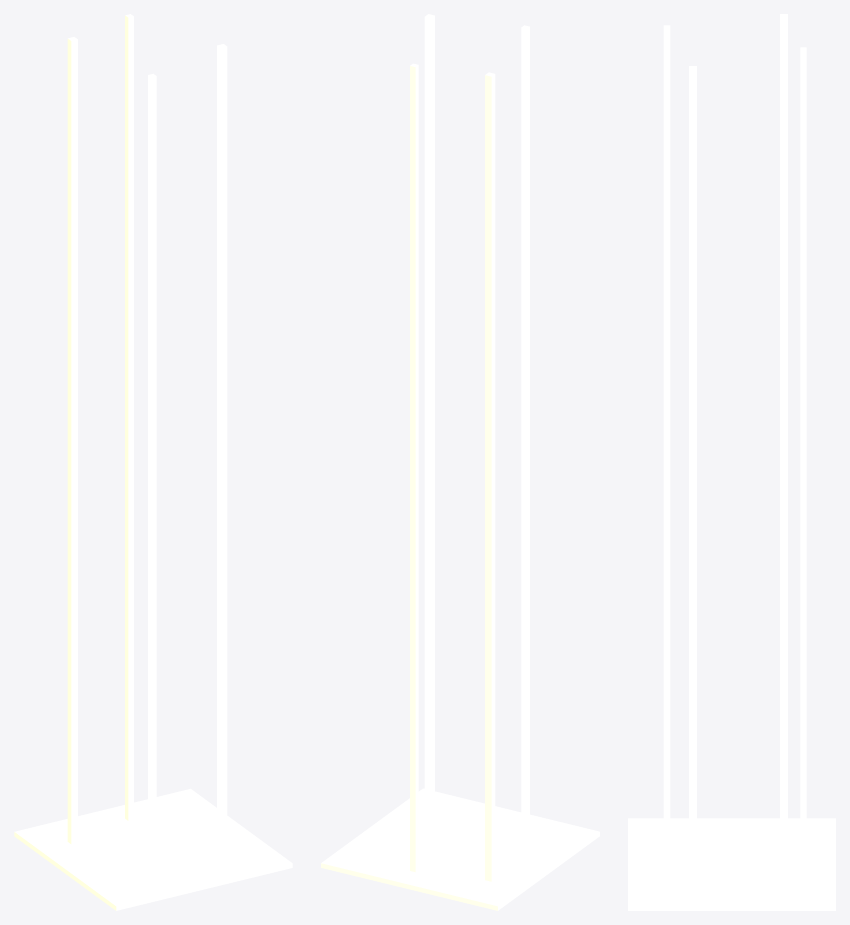
Rendered from dba-light-shaft.glb.
3 renders of one model, left to right at view 1: azimuth 30°, elevation 25°; view 2: azimuth 150°, elevation 25°; view 3: azimuth 270°, elevation 25°, orthographic.
Visible parts, largest first — view 1: box-prop; view 2: box-prop; view 3: box-prop.
Boxes of the visible parts, x1,y1,x2,y2 form: box-prop: [14, 14, 292, 910]; box-prop: [321, 14, 599, 910]; box-prop: [628, 14, 835, 910].
Size of the model in its own units: 1.6 by 7 by 1.6.
